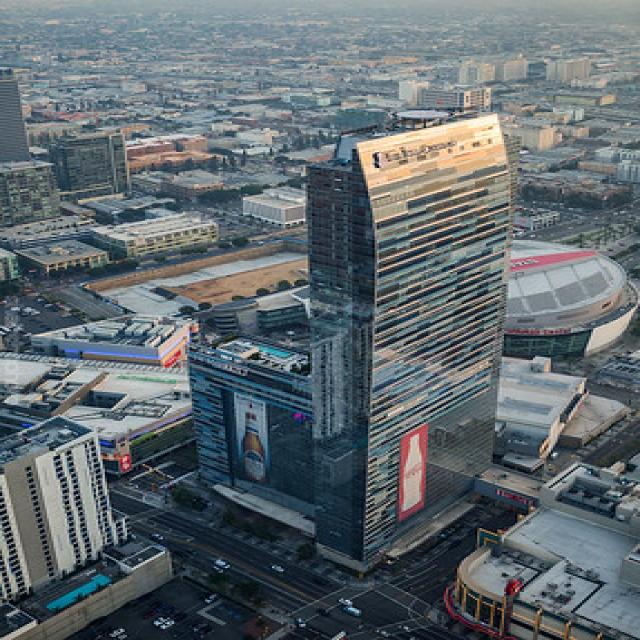Normal_building: (171, 104, 507, 584)
